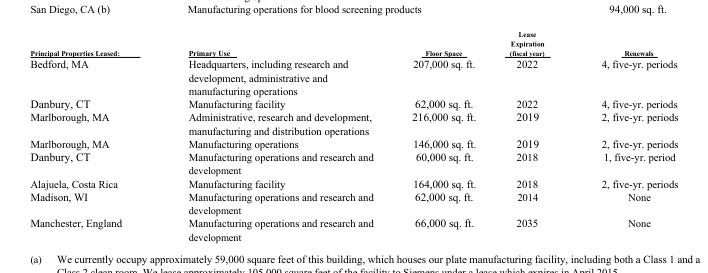table: (29, 29, 677, 241)
table column: (154, 29, 392, 241), (29, 29, 154, 241), (572, 29, 677, 241), (392, 29, 492, 241), (492, 29, 572, 241)
table column header: (29, 29, 677, 57)
table row: (29, 57, 677, 96), (29, 29, 677, 57), (29, 109, 677, 136), (29, 149, 677, 176), (29, 189, 677, 215), (29, 215, 677, 241), (29, 96, 677, 109), (29, 136, 677, 149), (29, 176, 677, 189)
